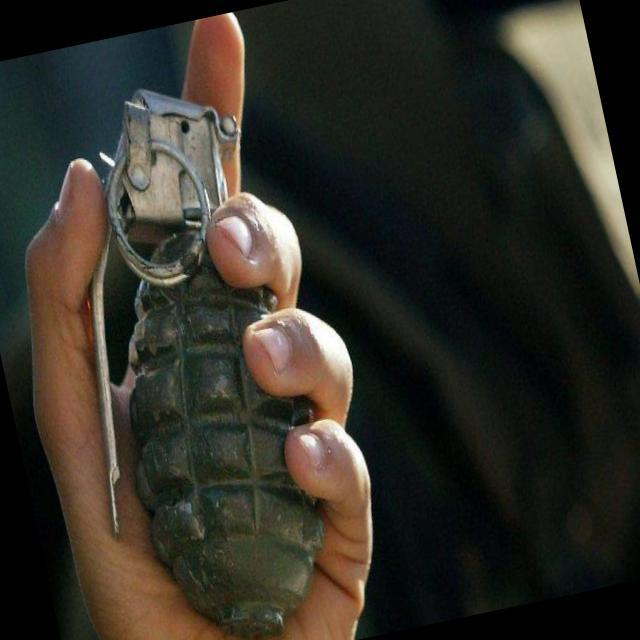grenade: (21, 64, 363, 640)
